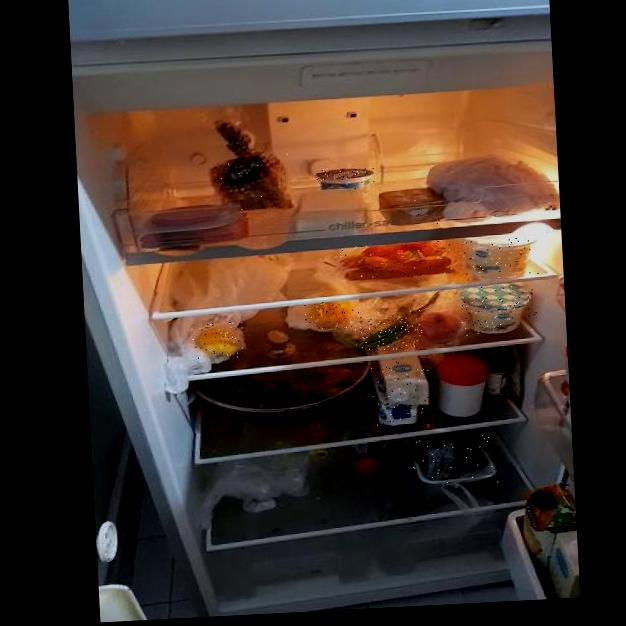bread: (209, 148, 295, 216)
broccoli: (411, 433, 499, 487)
butter: (380, 186, 449, 227)
carrots: (338, 240, 455, 281)
green chilies: (354, 310, 423, 352)
lemon: (192, 321, 246, 362), (305, 300, 361, 330)
milk: (371, 358, 432, 426)
yoghurt: (457, 284, 537, 336), (460, 232, 540, 281), (315, 166, 375, 192)
